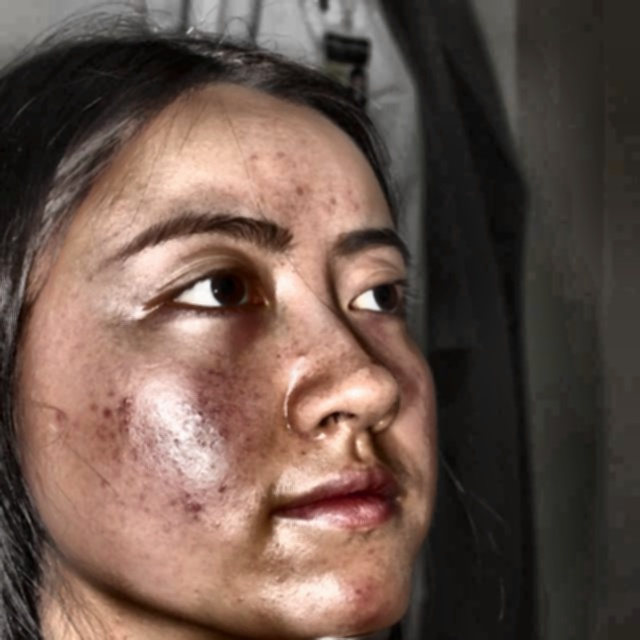comedone: (40, 406, 76, 426), (290, 340, 313, 364)
